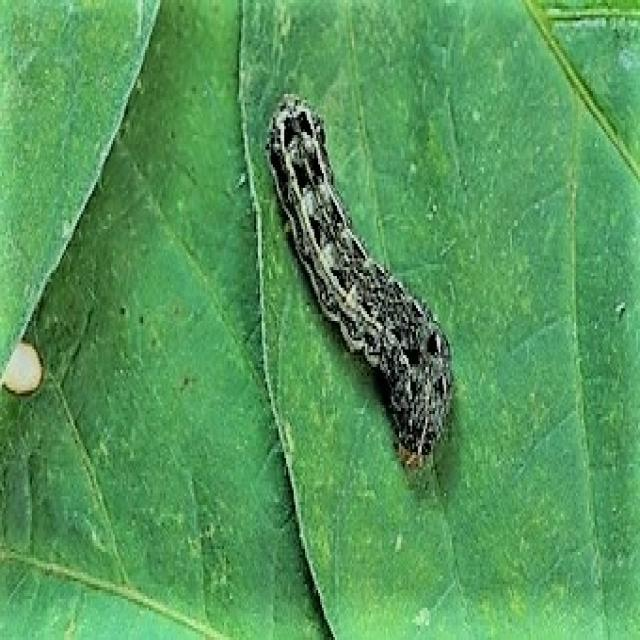armyworm: (264, 88, 454, 473)
